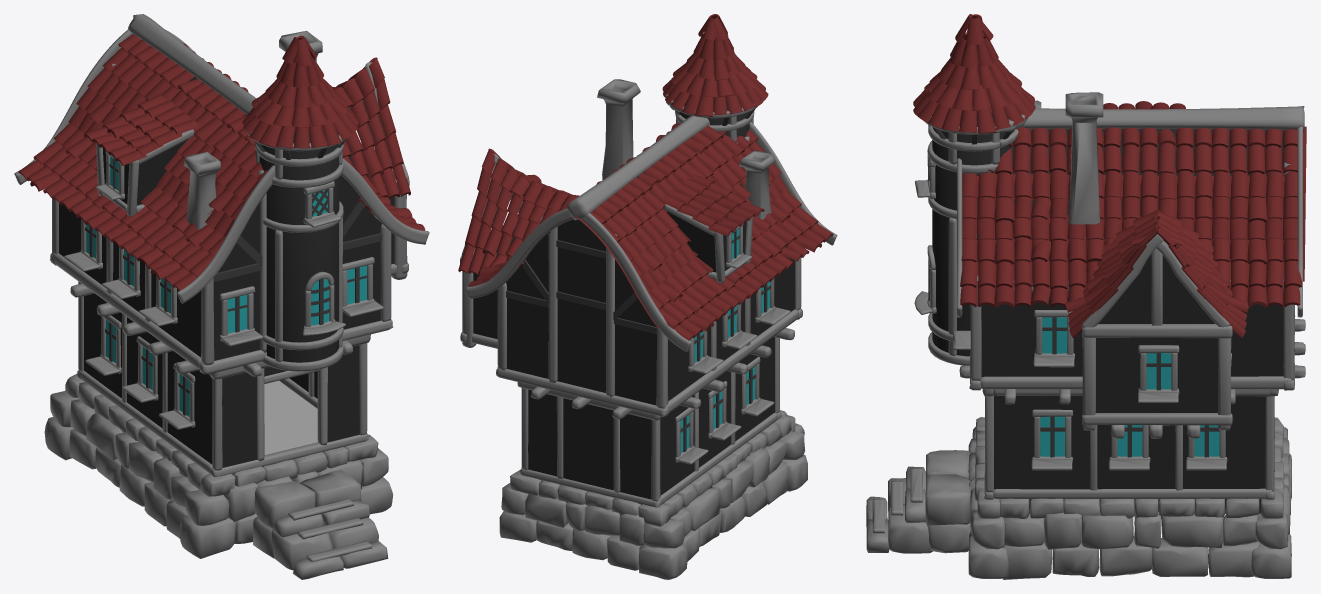
Rendered from SM_house_07.fbx.
3 views of the same model, side by side, from view 1: azimuth 30°, elevation 25°; view 2: azimuth 150°, elevation 25°; view 3: azimuth 270°, elevation 25° (orthographic). The views are drawn at different scales.
Visible parts, largest first — view 1: Object342726; view 2: Object342726; view 3: Object342726.
Boxes of the visible parts, x1,y1,x2,y2 form: Object342726: (14, 14, 429, 579); Object342726: (458, 14, 837, 579); Object342726: (866, 14, 1306, 579).
Bounding box in the file's own units: 287 × 442 × 338.
